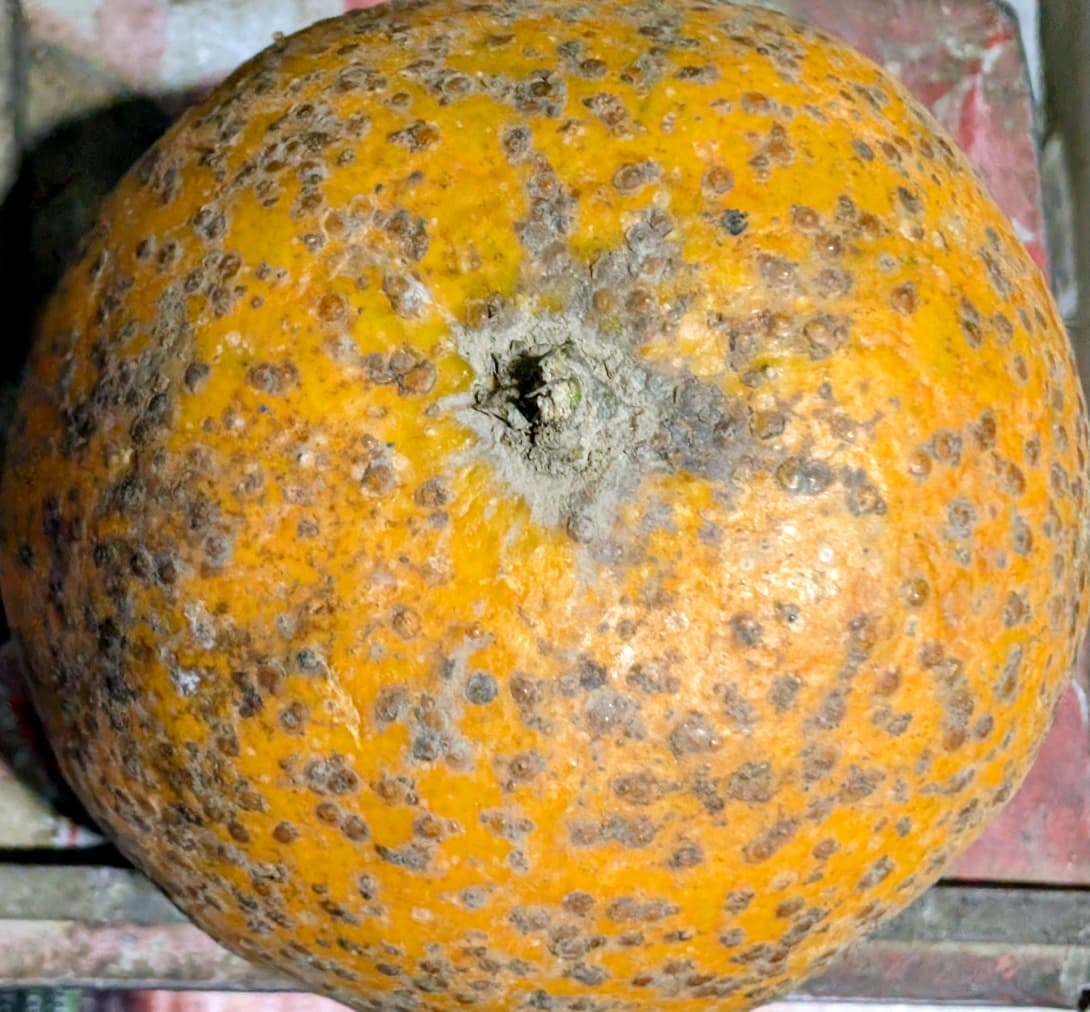orange: (36, 177, 963, 1012)
